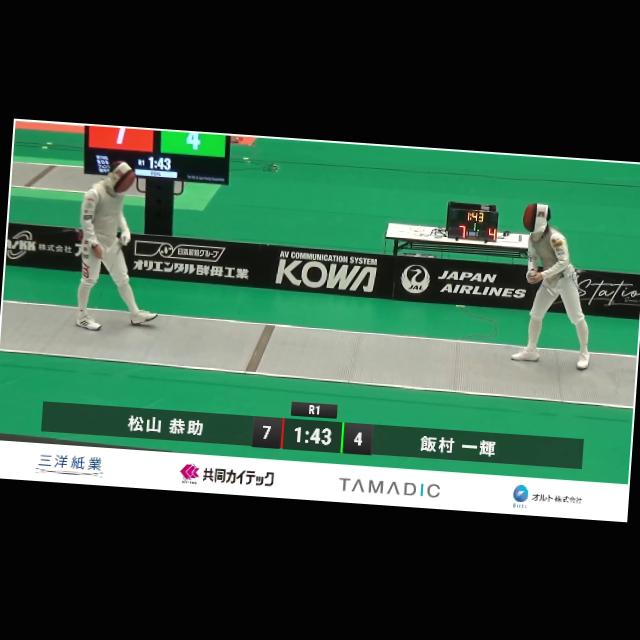blade: (89, 232, 132, 318), (524, 268, 558, 298)
